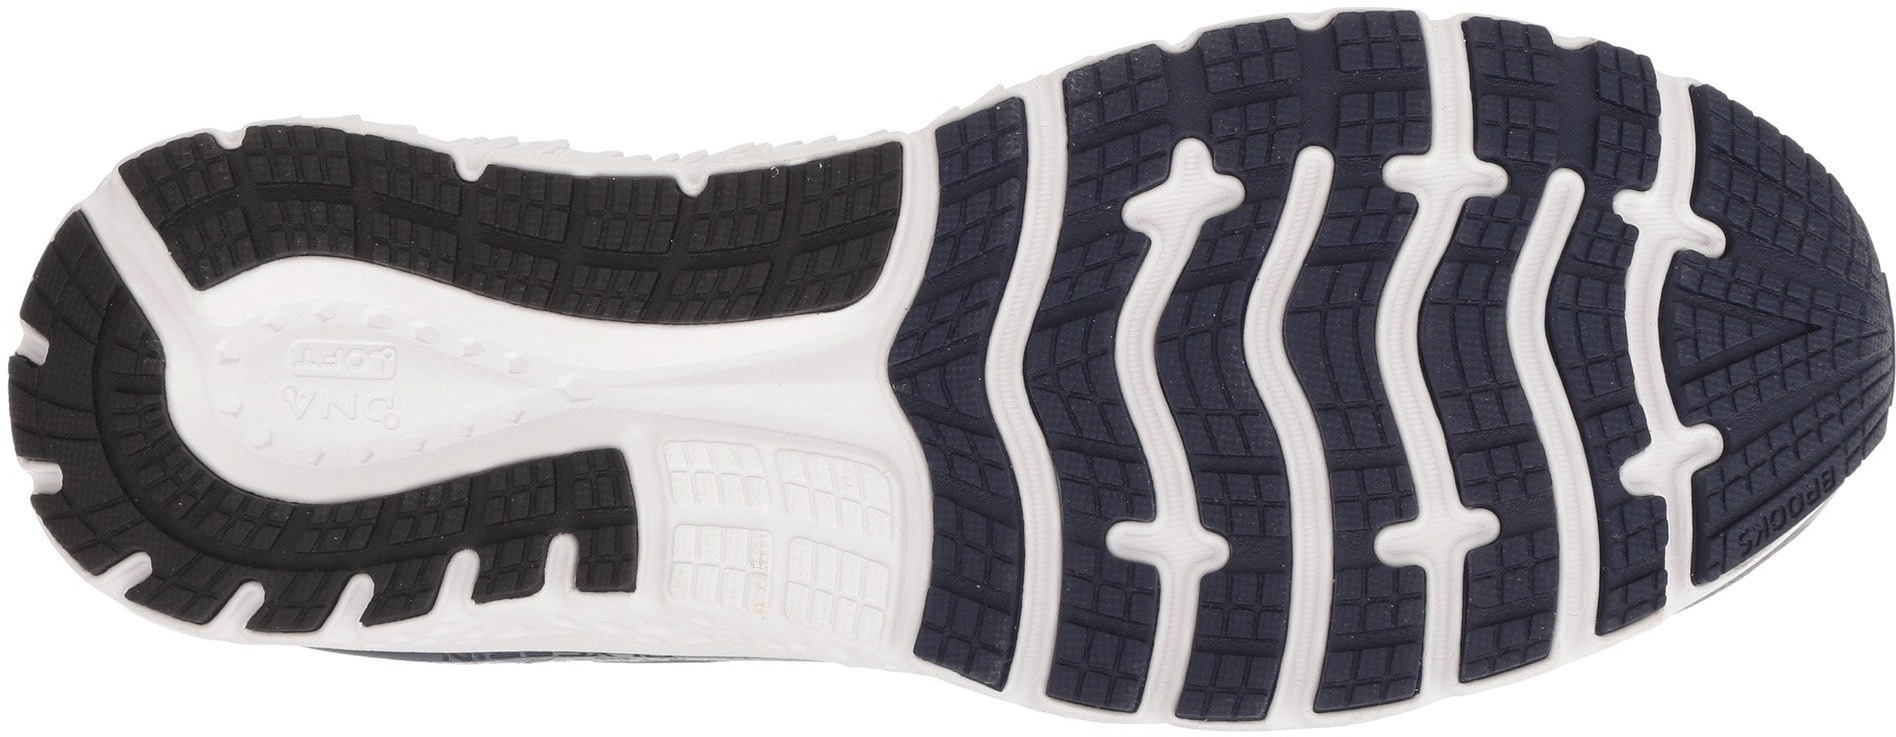quad: (1299, 275, 1530, 504), (1046, 304, 1268, 513), (1190, 58, 1415, 262), (1690, 267, 1884, 469), (683, 449, 857, 639), (727, 161, 872, 313)
